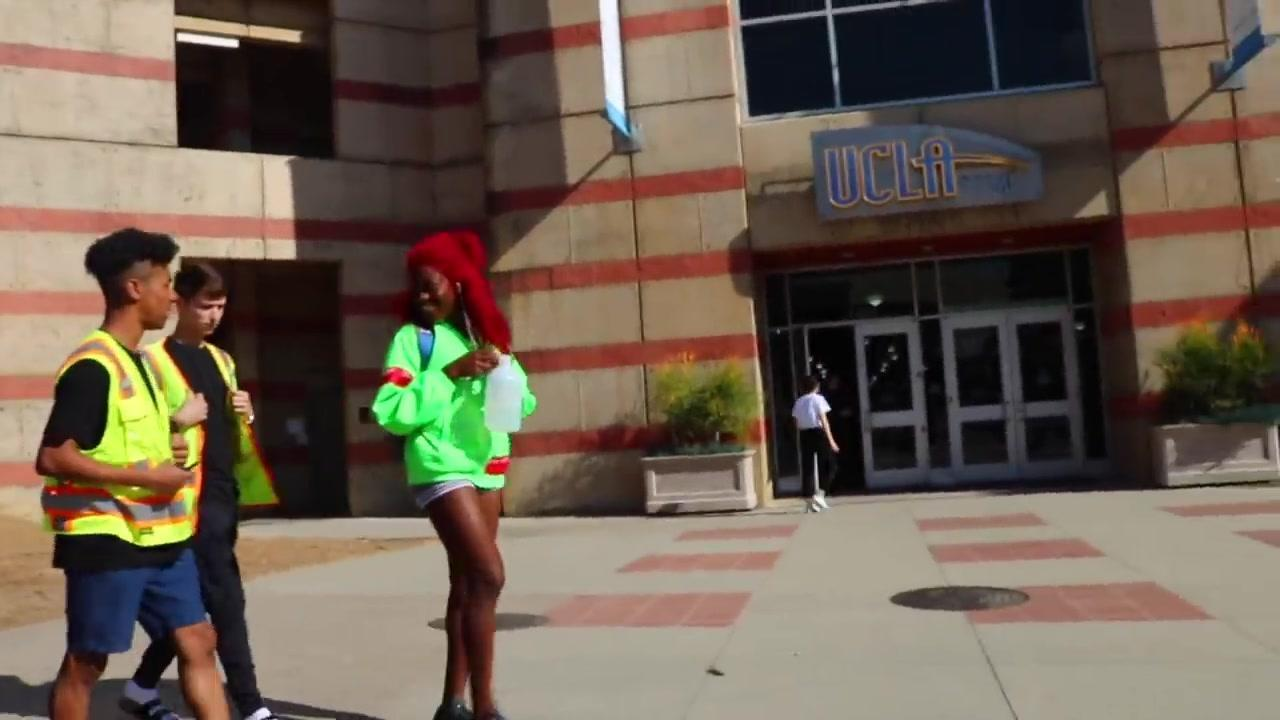vest: (35, 330, 197, 546), (141, 331, 281, 511)
